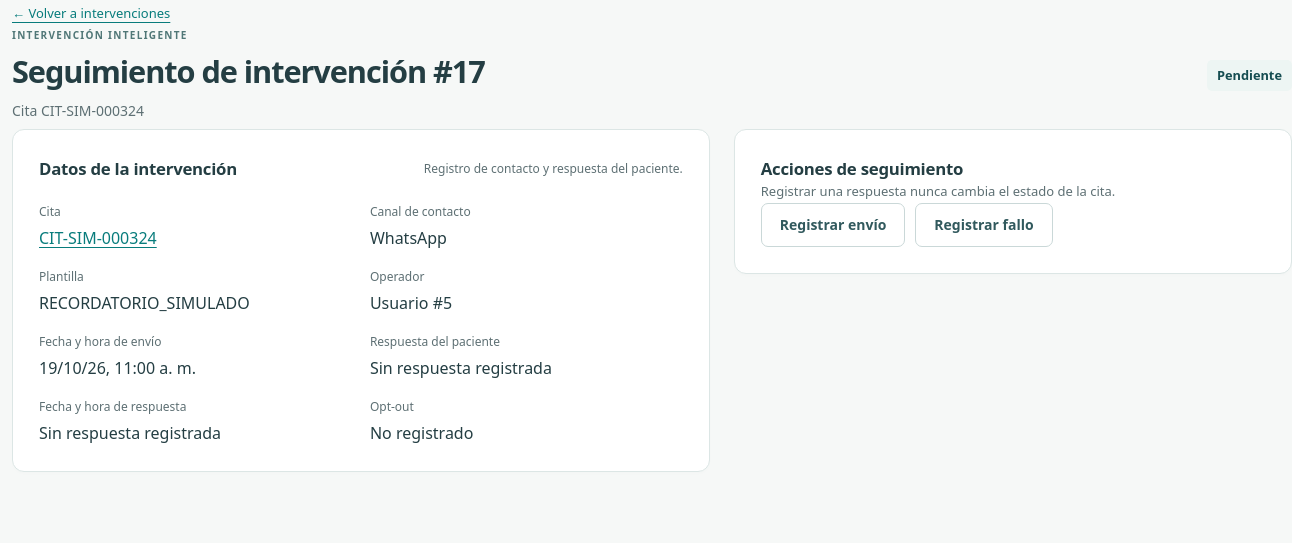
Test: Registro explícito del envío (RF-059, RF-061) › explica TRANSICION_INVALIDA y actualiza las acciones desde el servidor
Click the button "Registrar envío" at {"x": 833, "y": 225}, box [761,203,905,247]
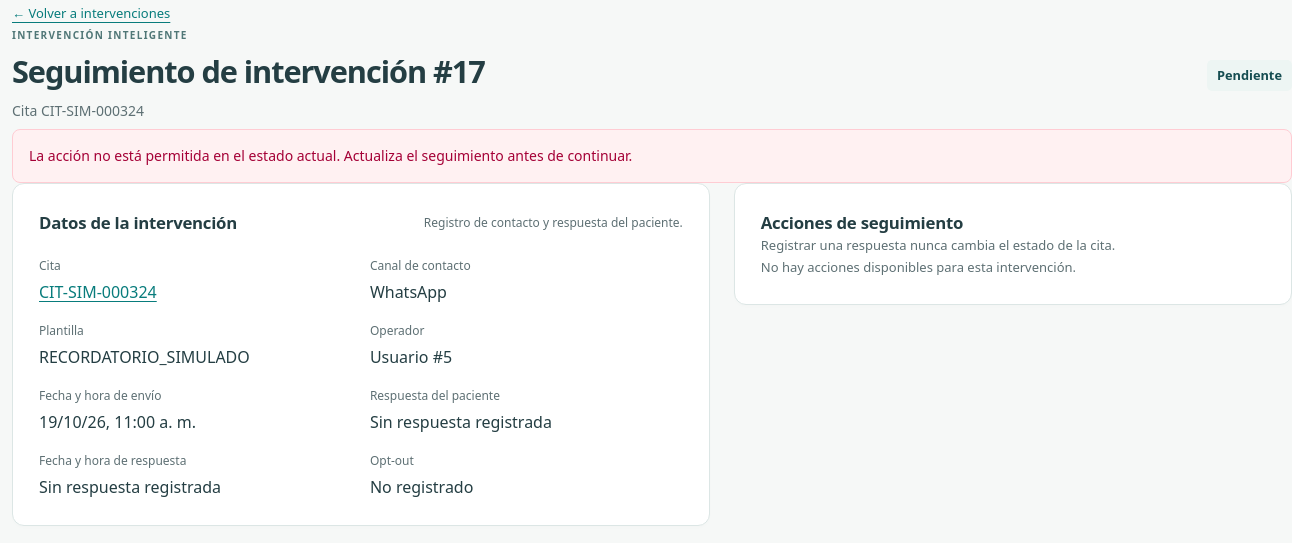
Expected: the text "La acción no está permitida en el estado actual" is shown, [29,146,632,165]
Expected: the text "No hay acciones disponibles para esta intervención." is shown, [761,258,1076,276]
